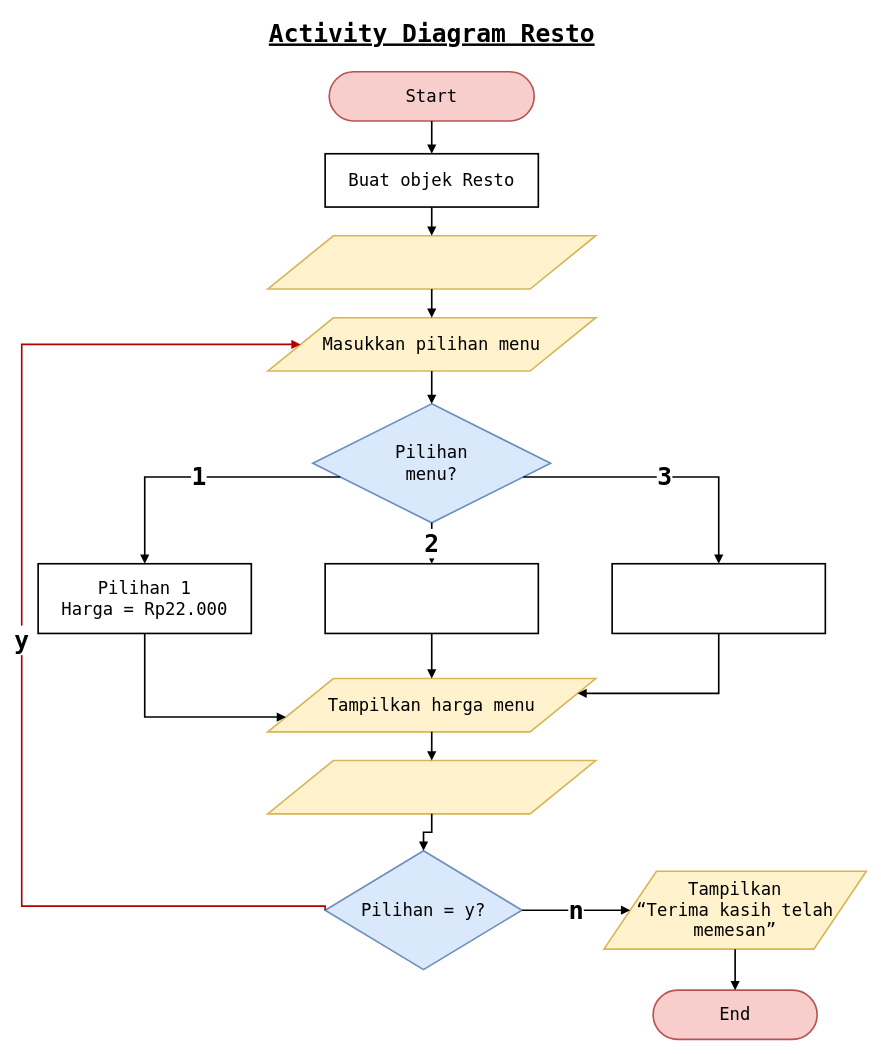
Some shapes in this 881 by 1054 pixel diagram are drawn without their labels. Here are the shapes that lost their labels. From the top down, the centre of each, then its label:
point (431, 262): Tampilkan daftar menu
point (431, 598): Pilihan 2 Harga = Rp15.000
point (718, 598): Pilihan 3 Harga = Rp25.000
point (431, 786): Pesan kembali? (y/n)
